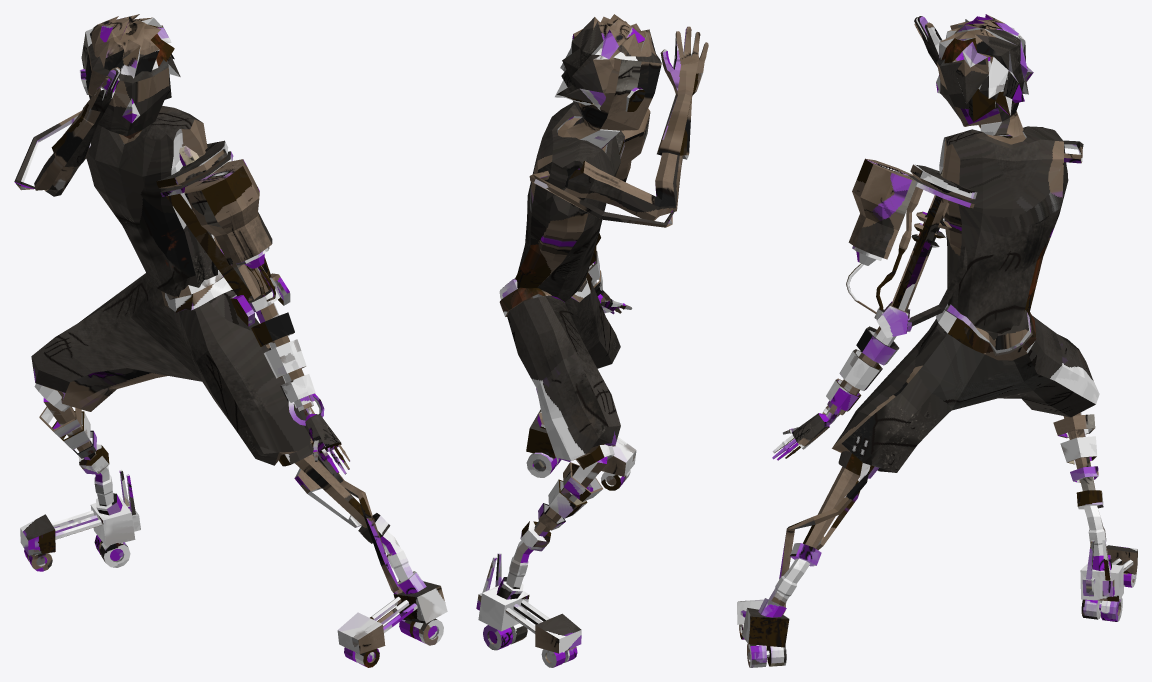
The model's file is CyborgFINALAnimation_000067.obj.
3 renders of one model, left to right at view 1: azimuth 30°, elevation 25°; view 2: azimuth 150°, elevation 25°; view 3: azimuth 270°, elevation 25°, orthographic. The views are drawn at different scales.
Parts seen in each view (by area): view 1: CyborgMesh_Cube.002; view 2: CyborgMesh_Cube.002; view 3: CyborgMesh_Cube.002.
Part boxes in pixels (x1,y1,x2,y2): CyborgMesh_Cube.002: (14,14,447,667); CyborgMesh_Cube.002: (476,14,708,667); CyborgMesh_Cube.002: (737,14,1137,667).
Size of the model in its own units: 4.23 by 8.63 by 5.44.
